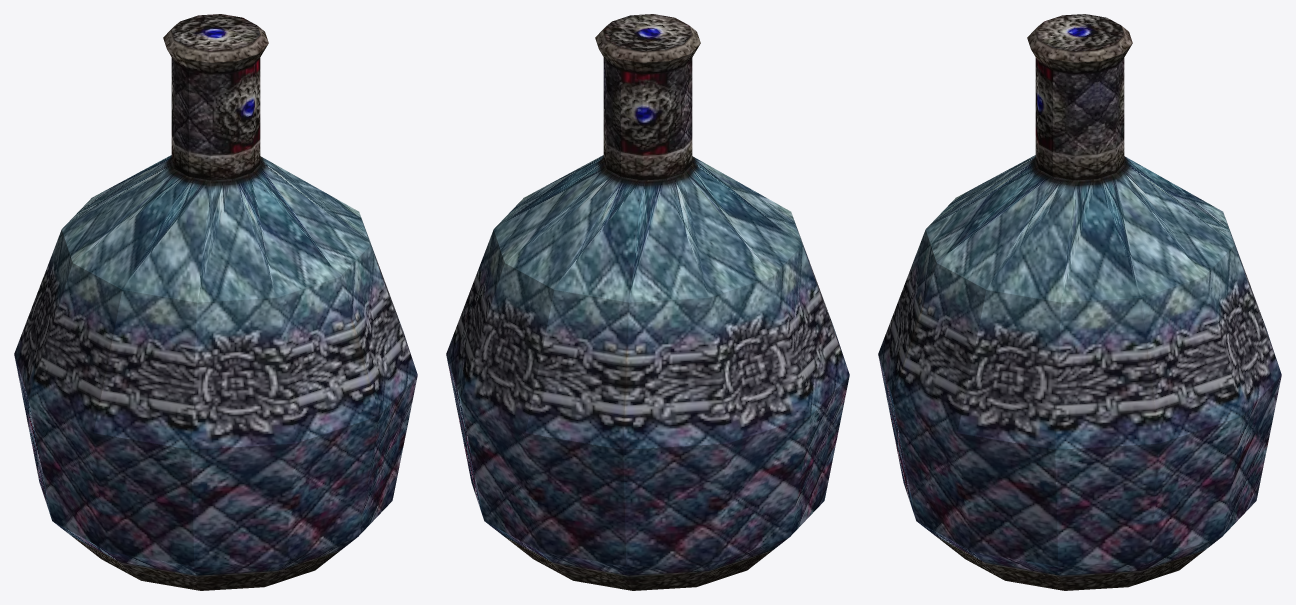
The model's file is ITPO_MANA_02.glb.
3 renders of one model, left to right at view 1: azimuth 30°, elevation 25°; view 2: azimuth 150°, elevation 25°; view 3: azimuth 270°, elevation 25°, orthographic.
Parts seen in each view (by area): view 1: ITPO_MANA_02; view 2: ITPO_MANA_02; view 3: ITPO_MANA_02.
Part boxes in pixels (<box>): ITPO_MANA_02: <box>14,14,417,590</box>; ITPO_MANA_02: <box>446,14,849,590</box>; ITPO_MANA_02: <box>878,14,1281,590</box>.
Size of the model in its own units: 0.2021 by 0.2795 by 0.2021.
Materials: 1 (1 with a texture image).
